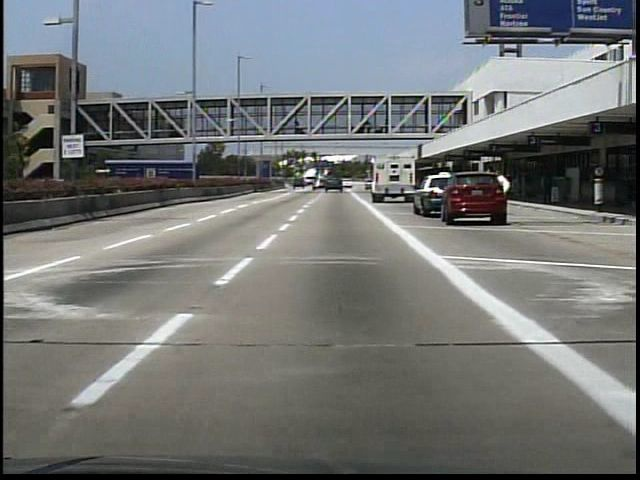person: (492, 171, 512, 227)
